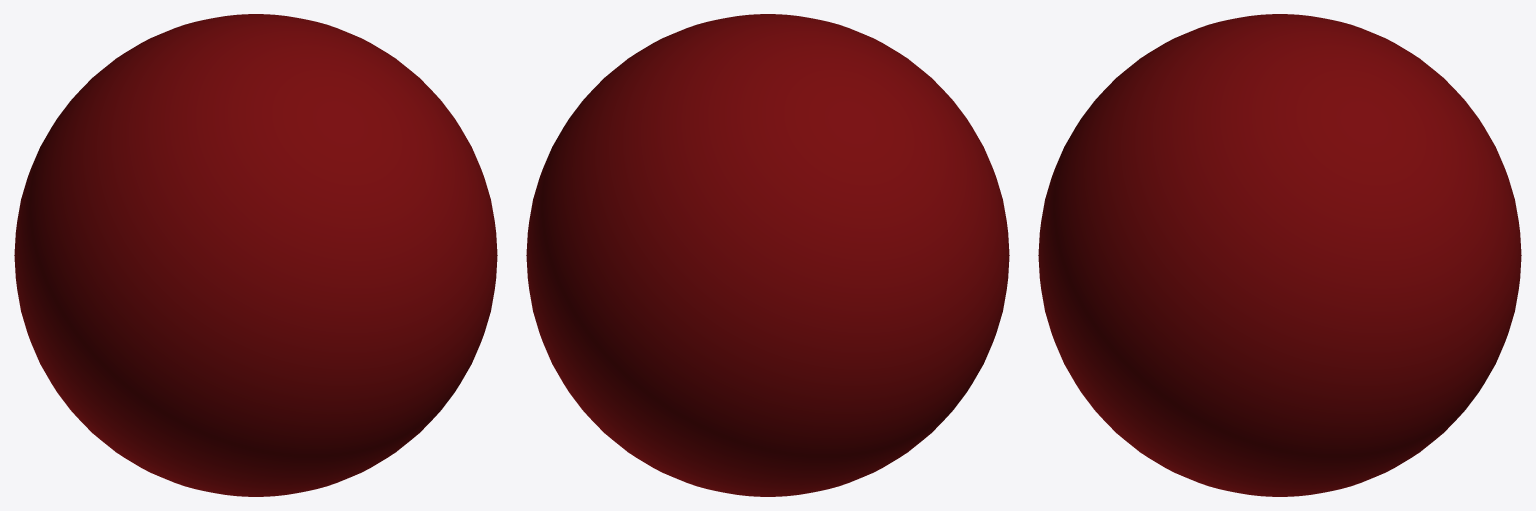
The model's file is LotusOrb.glb.
The picture shows the model from 3 angles, left to right: view 1: azimuth 30°, elevation 25°; view 2: azimuth 150°, elevation 25°; view 3: azimuth 270°, elevation 25°; orthographic projection.
Visible parts, largest first — view 1: LotusOrb; view 2: LotusOrb; view 3: LotusOrb.
Part boxes in pixels (x1,y1,x2,y2): LotusOrb: (14, 14, 497, 496); LotusOrb: (526, 14, 1009, 496); LotusOrb: (1038, 14, 1521, 496).
Size of the model in its own units: 20 by 20 by 20.
